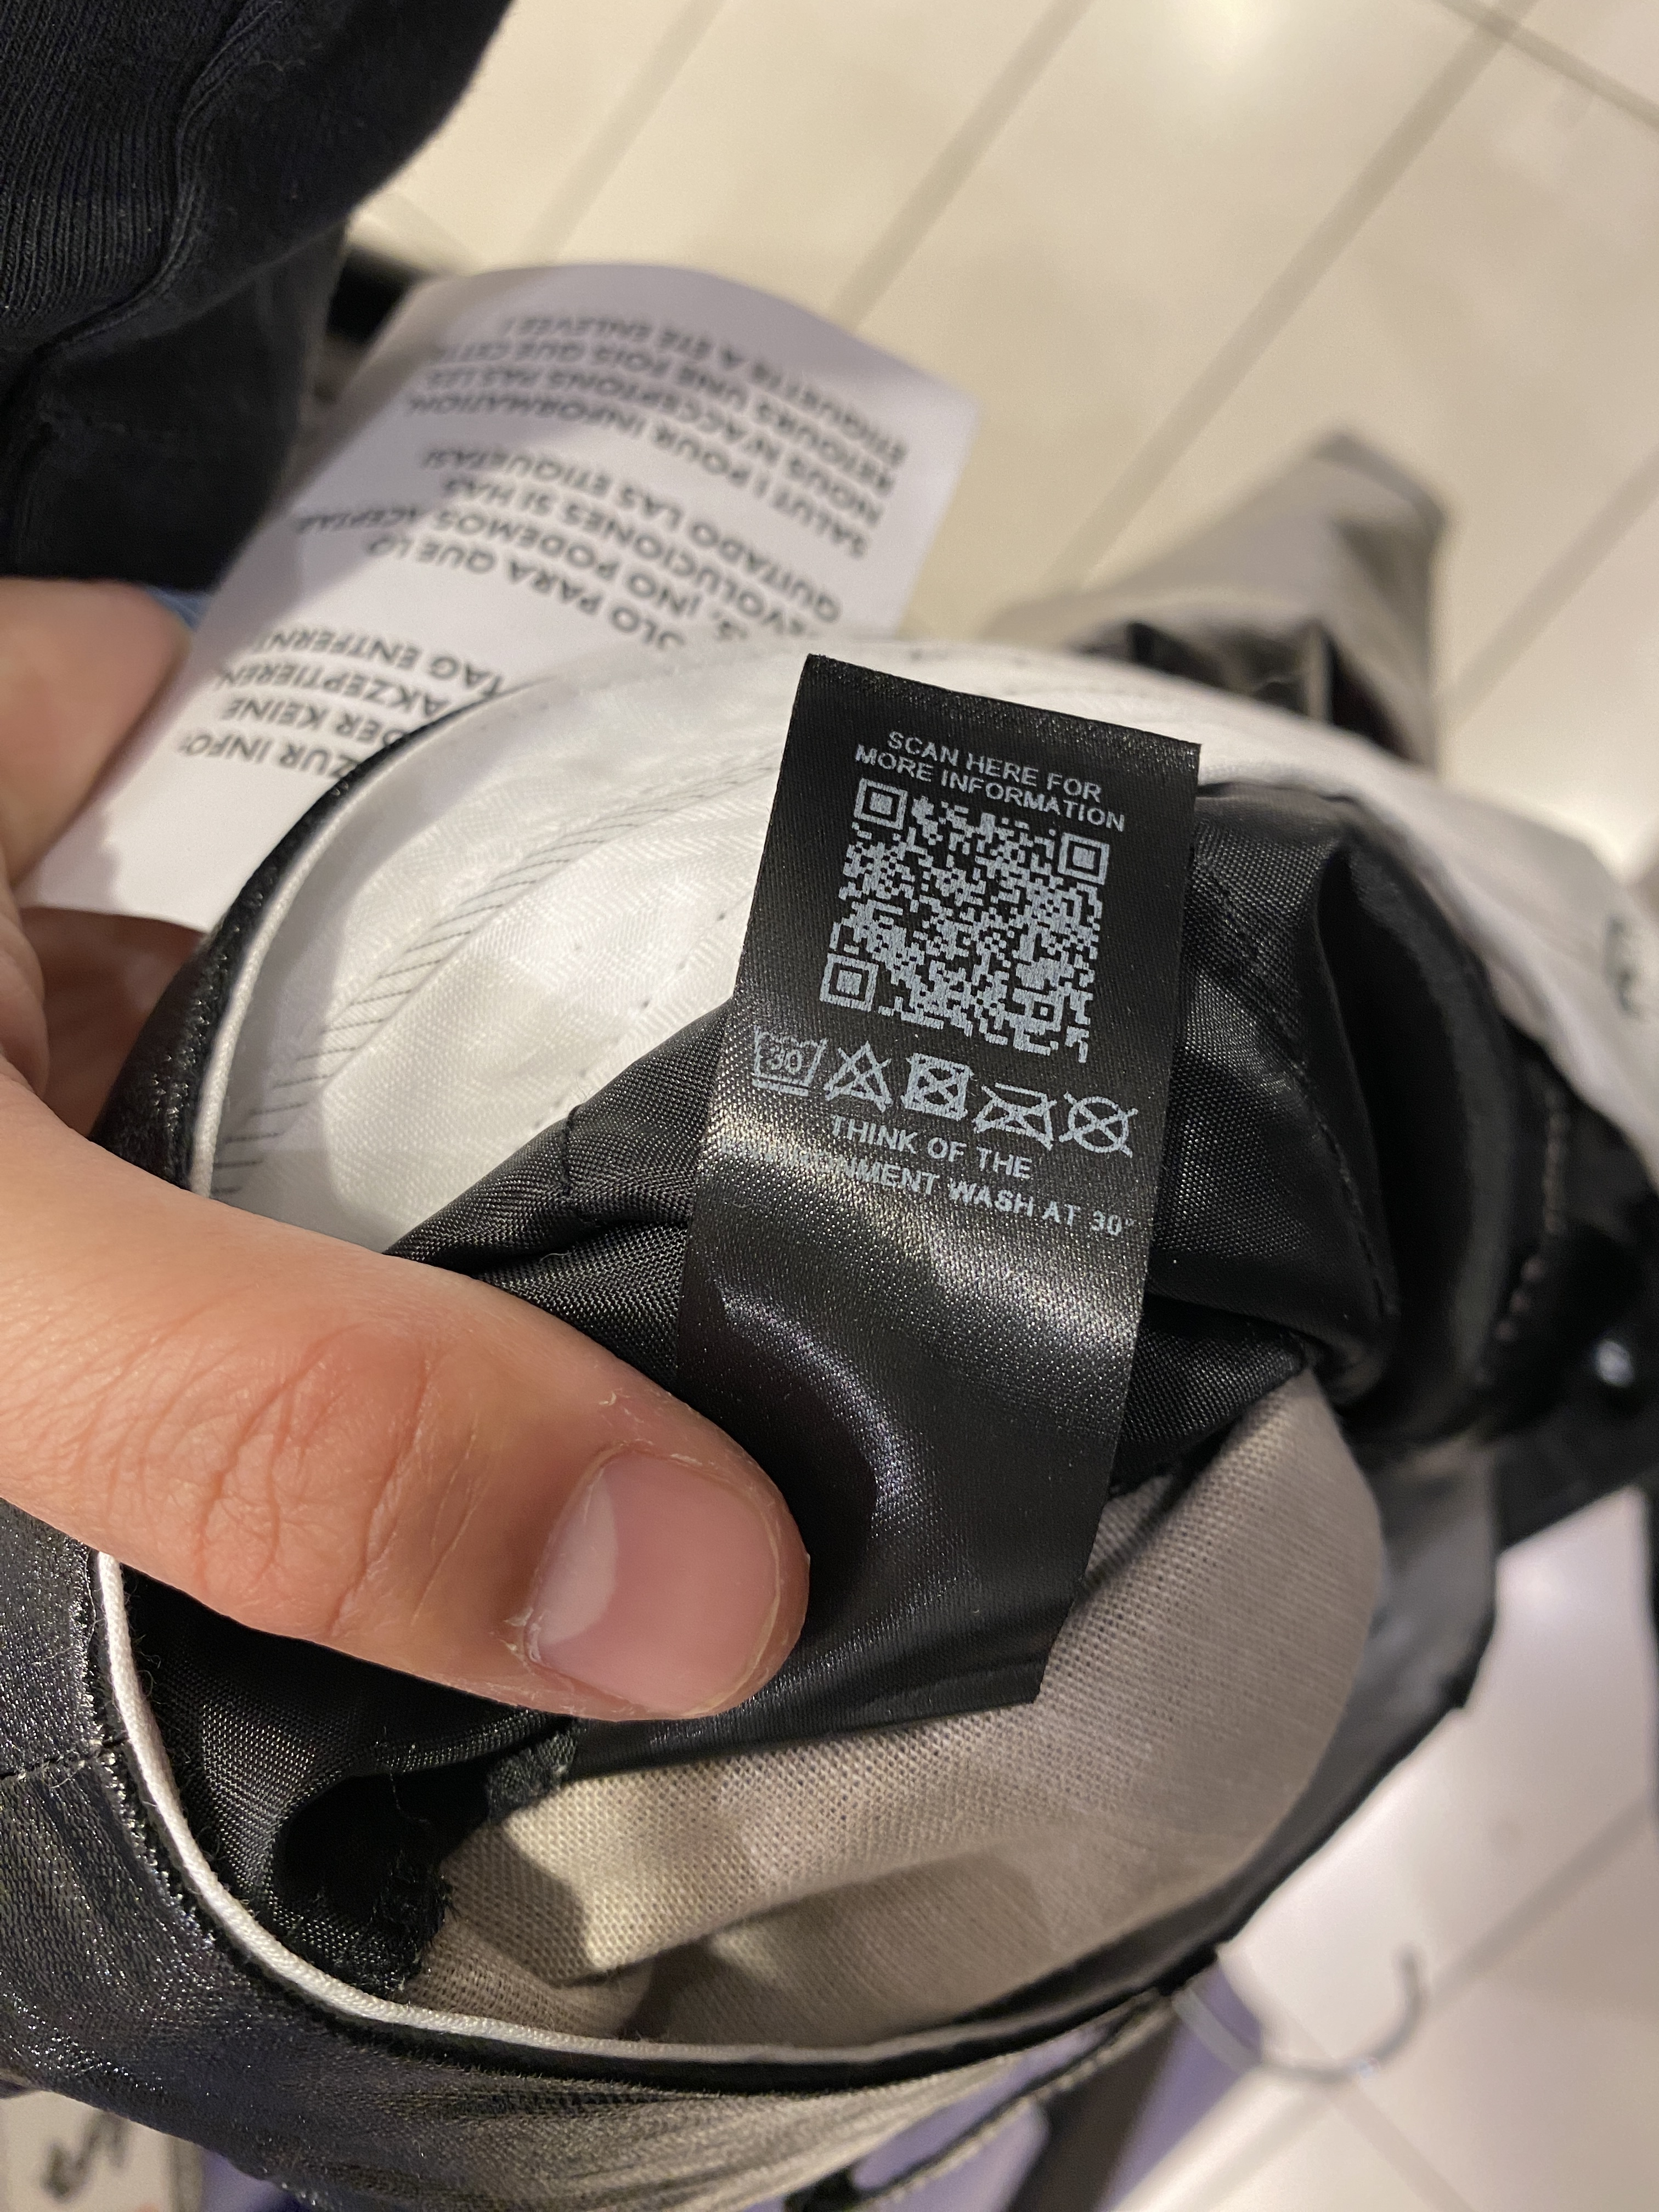icon: (746, 1022, 824, 1106), (974, 1076, 1058, 1153), (1058, 1087, 1141, 1162), (826, 1036, 897, 1116), (901, 1049, 972, 1129)
